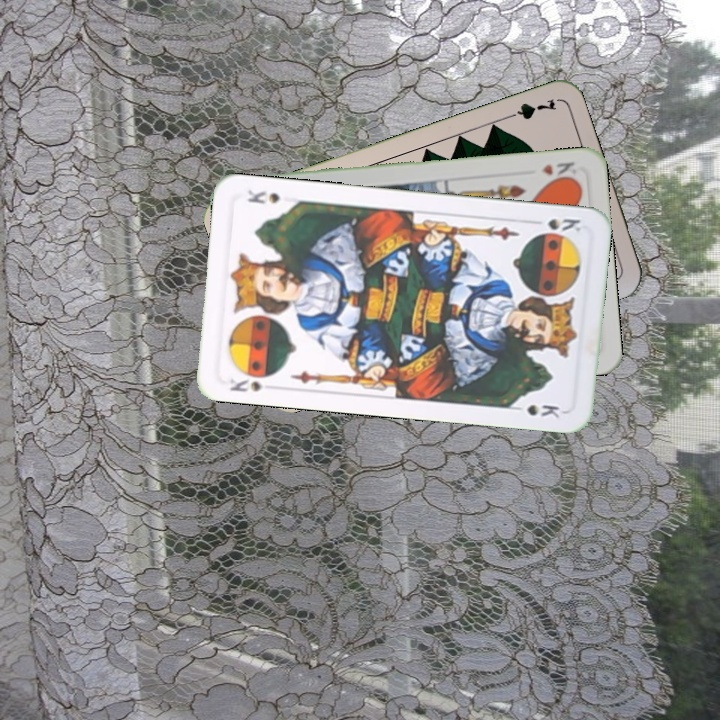G7: (500, 95, 559, 123)
HK: (537, 157, 578, 184)
SK: (543, 214, 583, 235), (226, 374, 264, 394)
